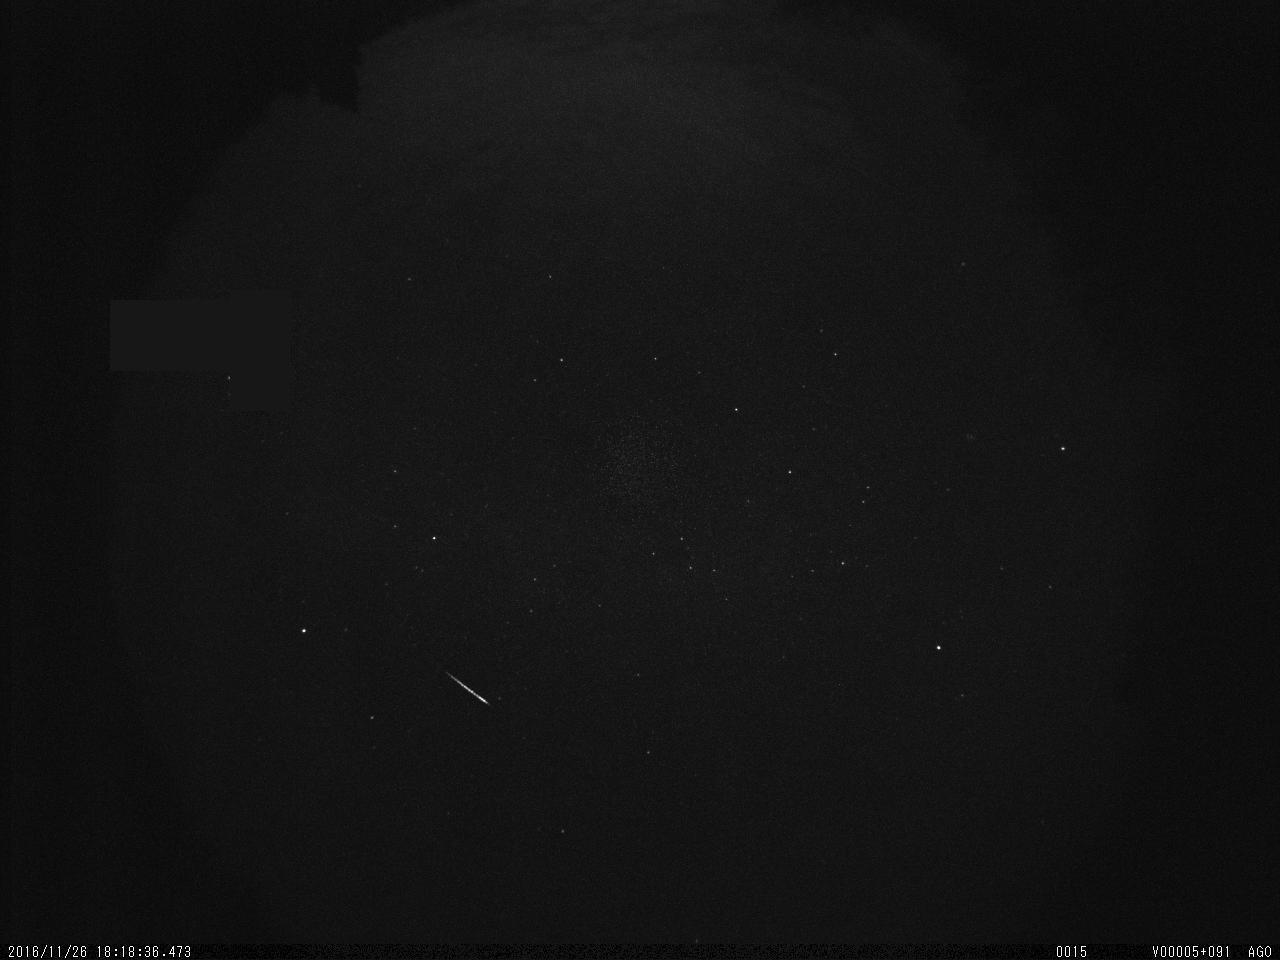meteor: (430, 644, 534, 745)
